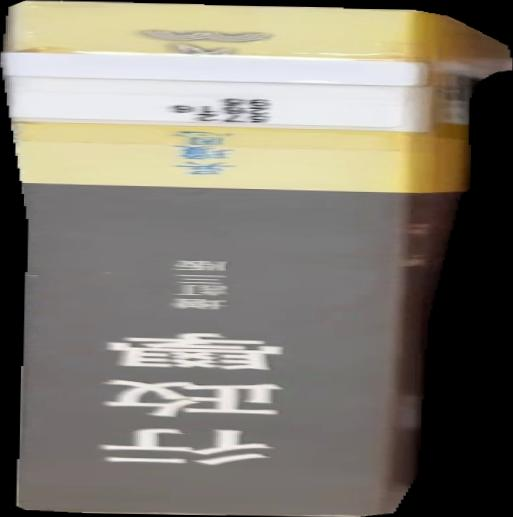reverse: (1, 1, 513, 517)
